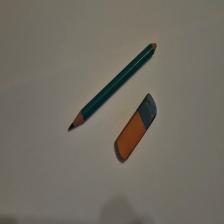eraser: (116, 93, 158, 162)
pencil: (69, 43, 158, 131)
